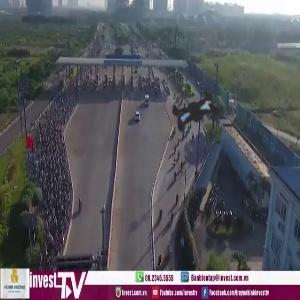drone: (136, 55, 252, 171)
